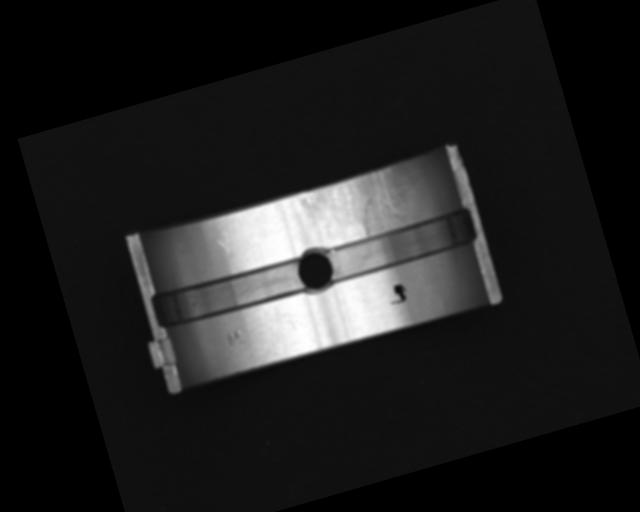blot: (386, 282, 409, 306)
bruise: (224, 329, 243, 347)
gap: (149, 255, 307, 332), (319, 207, 476, 284)
hole: (293, 242, 340, 296)
nick: (217, 234, 244, 275)
scratch: (299, 165, 412, 251)
